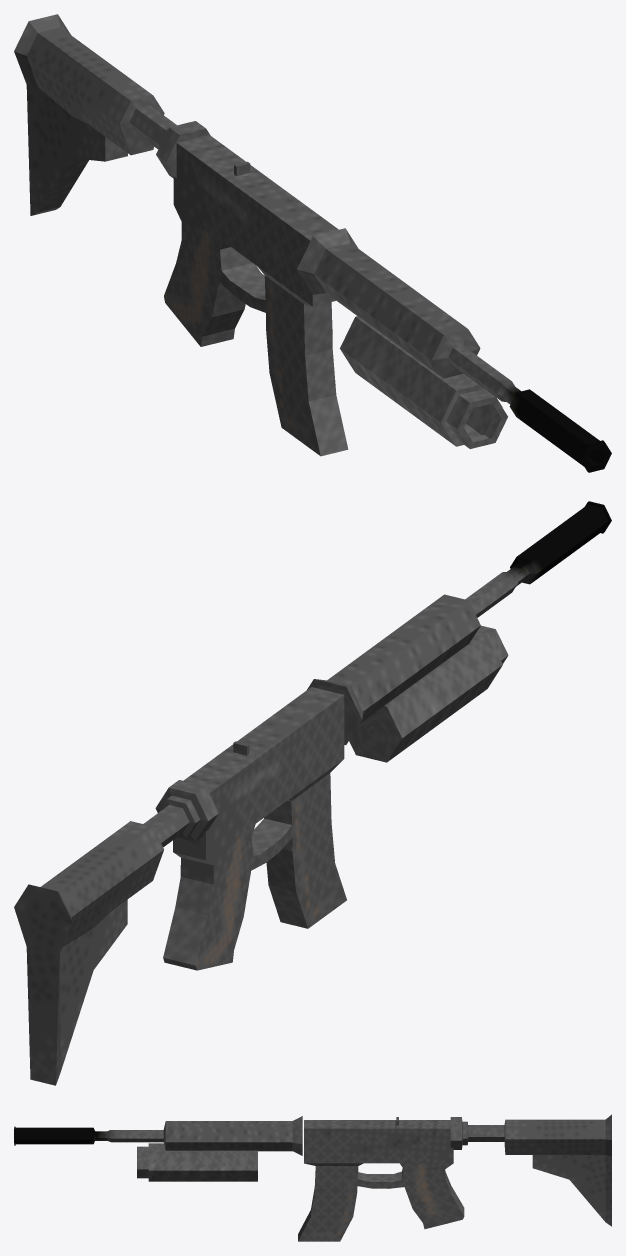
File: WP_GrenadeLauncher.fbx
3 renders of one model, top to bottom at view 1: azimuth 30°, elevation 25°; view 2: azimuth 150°, elevation 25°; view 3: azimuth 270°, elevation 25°, orthographic. The views are drawn at different scales.
Parts seen in each view (by area): view 1: WP_GrenadeLauncher; view 2: WP_GrenadeLauncher; view 3: WP_GrenadeLauncher.
Part boxes in pixels (left/top/right/bottom): WP_GrenadeLauncher: left=14, top=14, right=611, bottom=472; WP_GrenadeLauncher: left=14, top=501, right=611, bottom=1085; WP_GrenadeLauncher: left=14, top=1114, right=611, bottom=1241.
Bounding box in the file's own units: 2.53 × 8.31 × 37.55.
Materials: 1 (1 with a texture image).
